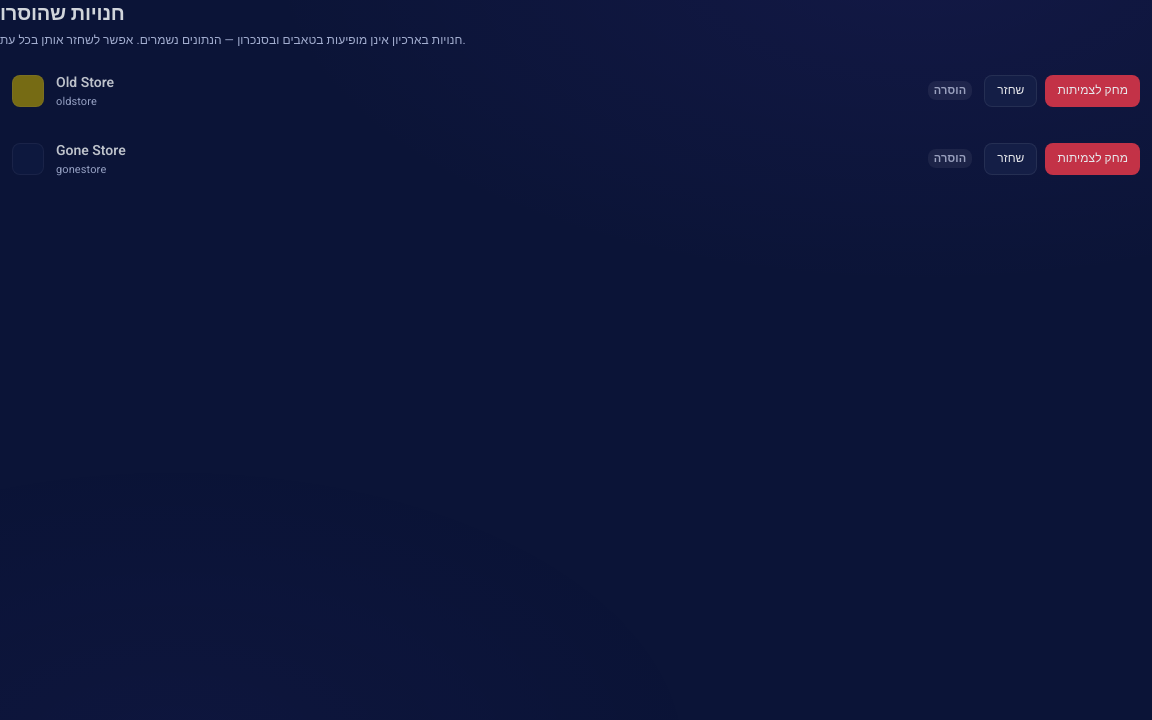
Test: RemovedStores — delete-confirm modal (Phase 6b T3-delete) › opens a REAL dialog (role=dialog) when "מחק לצמיתות" is clicked
This screenshot has width=1152, height=720.
Step 1. Click the button "מחק לצמיתות" in the row of "Old Store" → (1093,91), box [1045,75,1140,107]
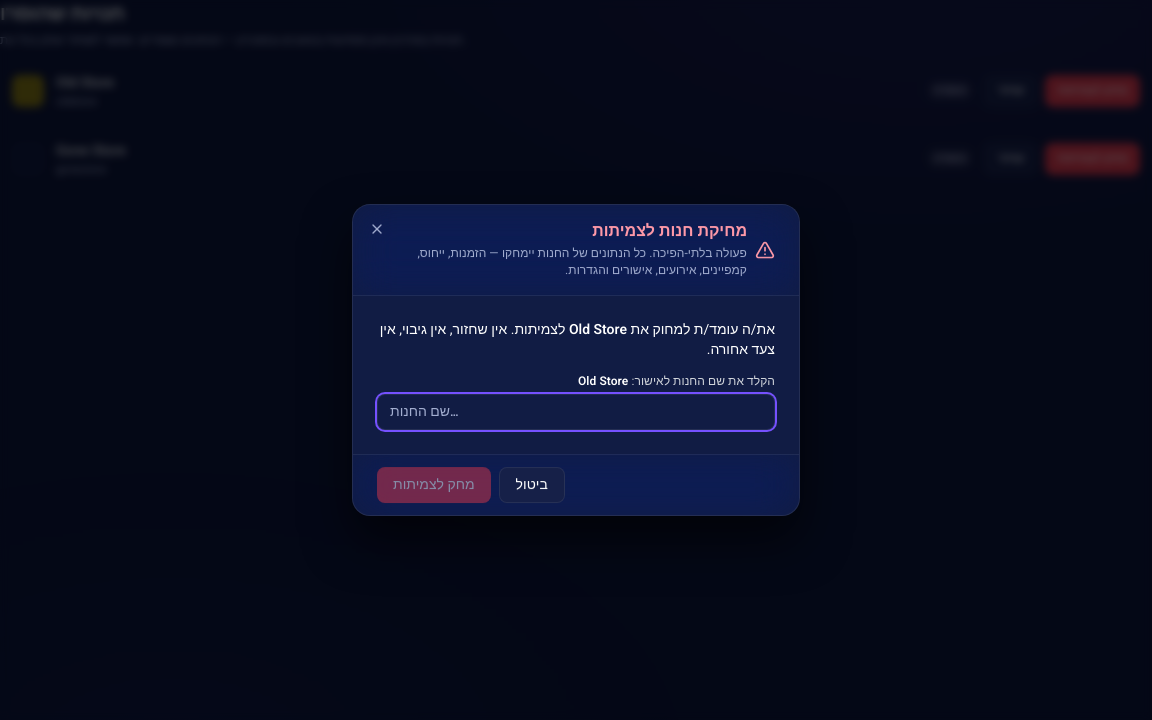
Check: the dialog is shown, box [352,204,800,516]
Check: the heading "מחיקת חנות לצמיתות" is shown, box [592,219,747,243]
Check: the text "בלתי-הפיכה" is shown, box [417,244,747,279]
